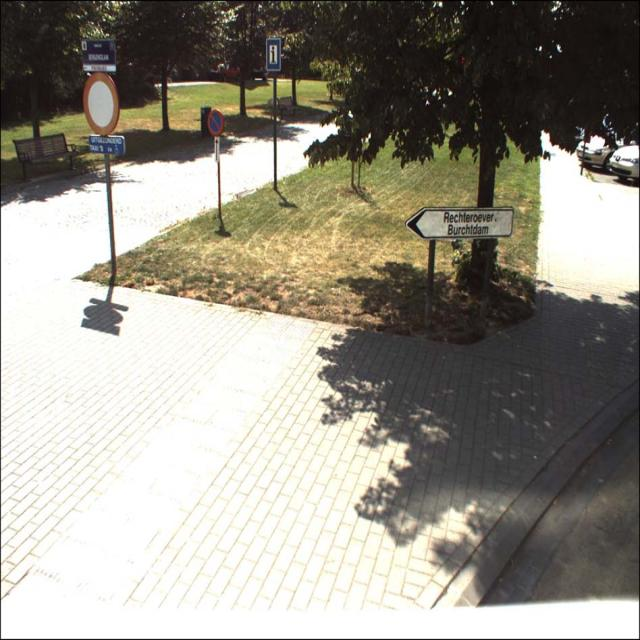parkyasak: (207, 108, 224, 137)
